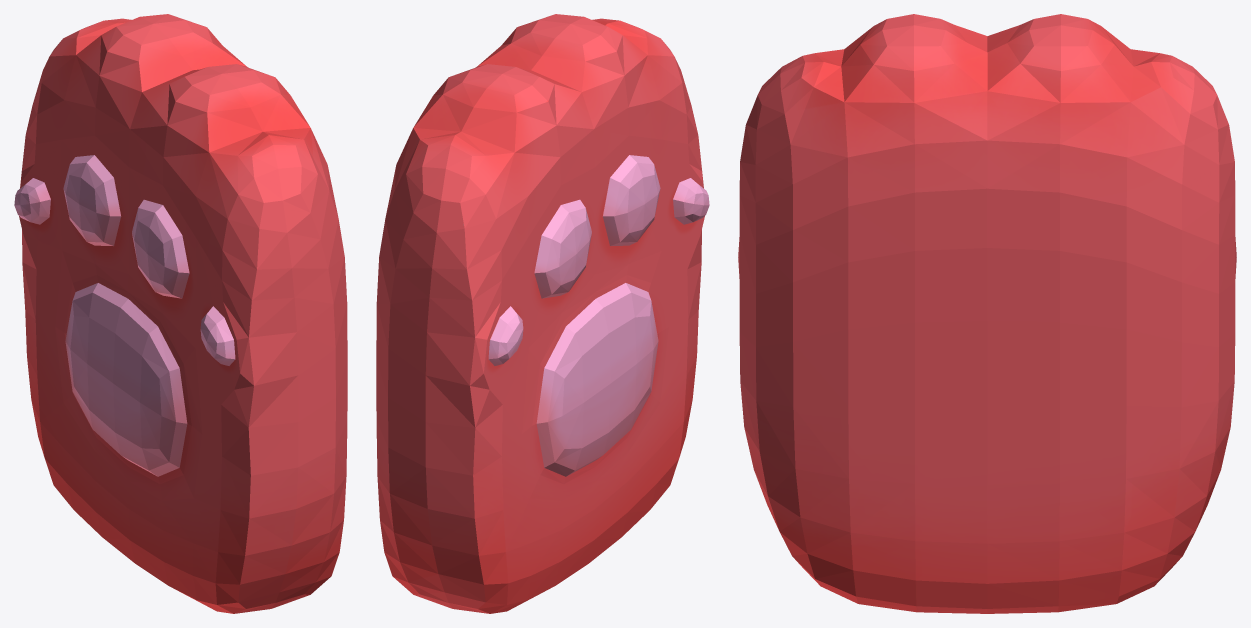
File: Paw 4.dae
The picture shows the model from 3 angles, left to right: view 1: azimuth 30°, elevation 25°; view 2: azimuth 150°, elevation 25°; view 3: azimuth 270°, elevation 25°; orthographic projection. The views are drawn at different scales.
Parts seen in each view (by area): view 1: Paw, Quick; view 2: Paw, Quick; view 3: Paw.
Part boxes in pixels (x1,y1,x2,y2): Paw: (19, 14, 347, 613); Quick: (14, 155, 235, 476); Paw: (376, 14, 704, 613); Quick: (488, 155, 709, 476); Paw: (738, 14, 1236, 613).
Size of the model in its own units: 0.9777 by 2.95 by 2.38.
